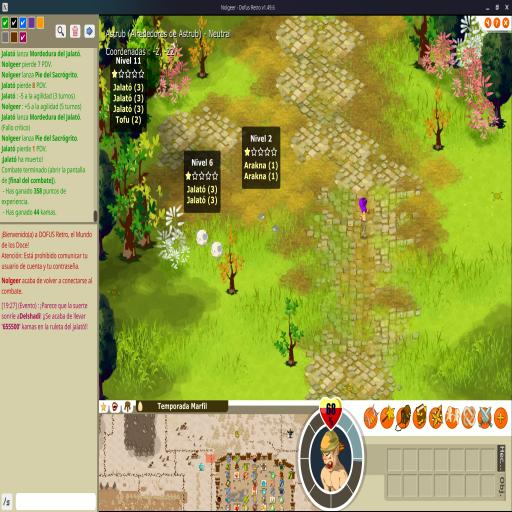Enemigos: (210, 240, 224, 260), (196, 229, 208, 247), (256, 212, 266, 221), (270, 224, 279, 234)
Personaje: (358, 198, 370, 237)
